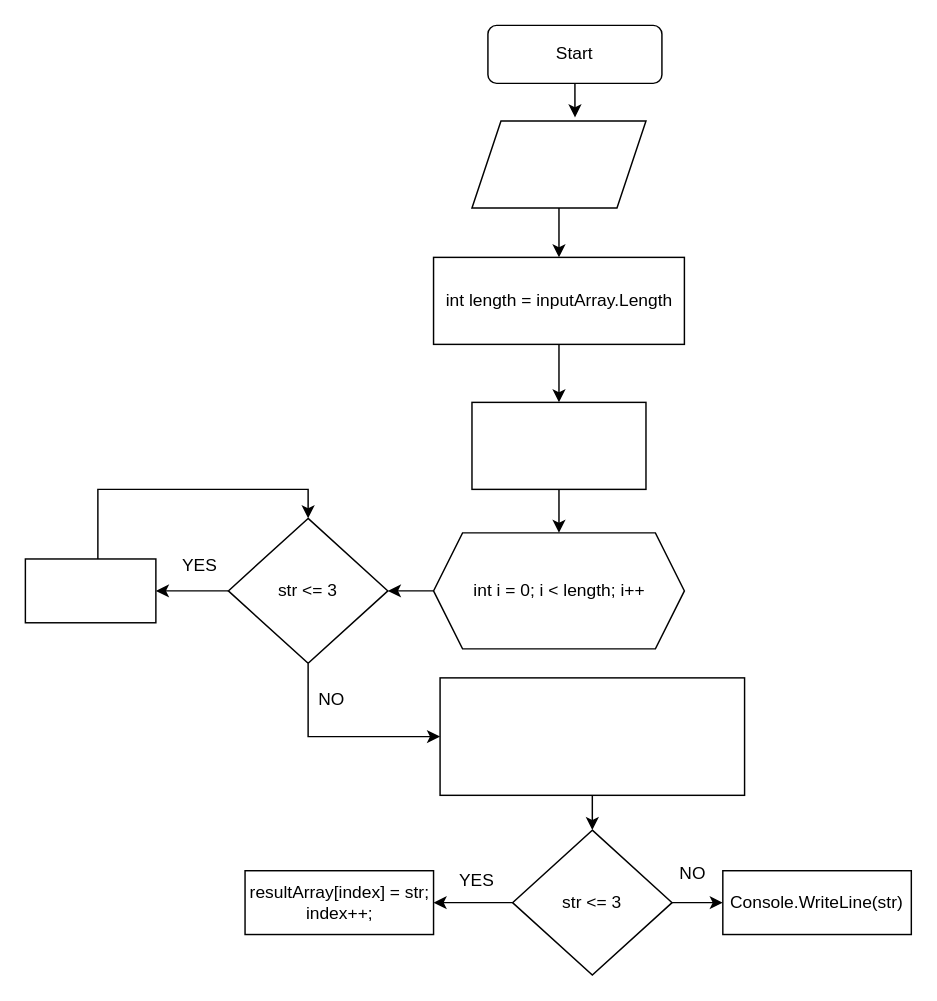
Image size: 937x1001. Some labels were removed from this diagram. Each missing label, with the box of its shape:
count++: (24, 558, 156, 623)
inputArray: (471, 120, 646, 208)
int count=0 int index=0: (471, 401, 646, 489)
string[] resultArray = new string[count];: (439, 676, 745, 795)
